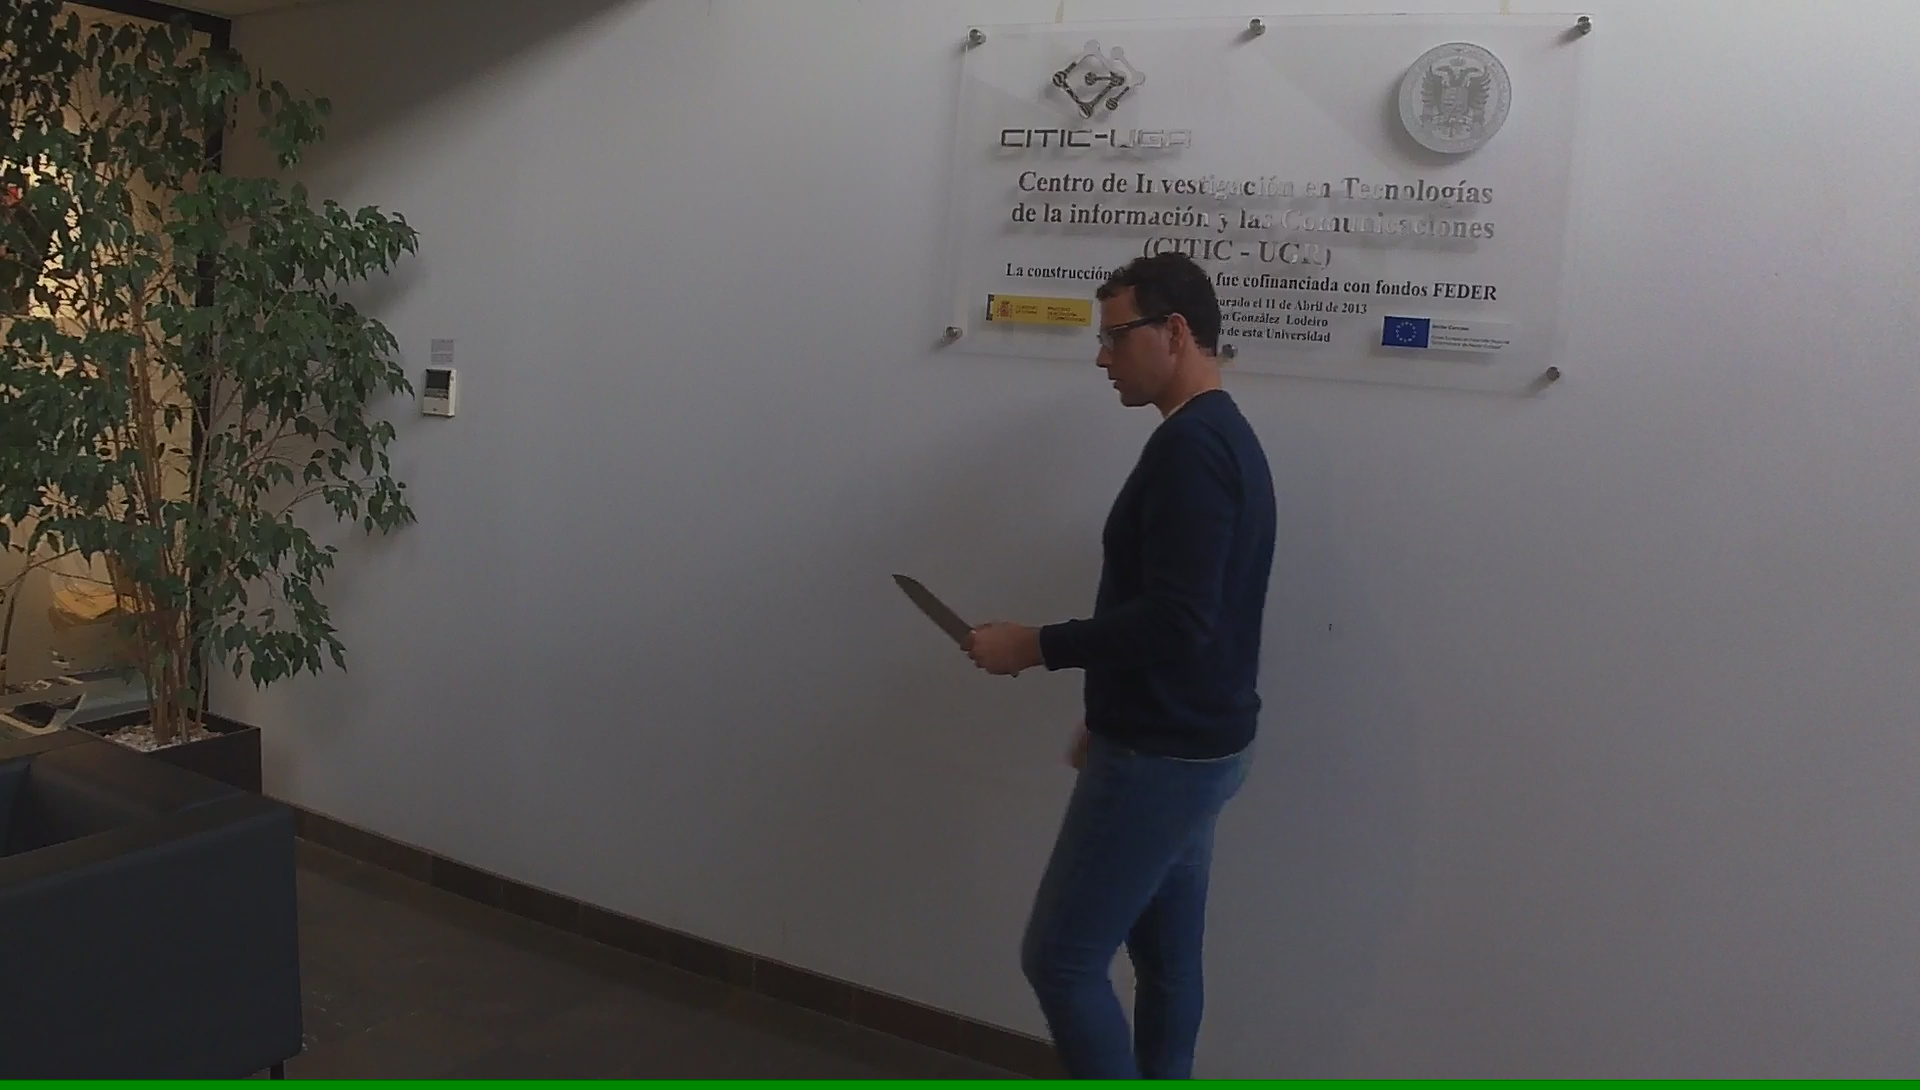knife: (886, 565, 1025, 681)
